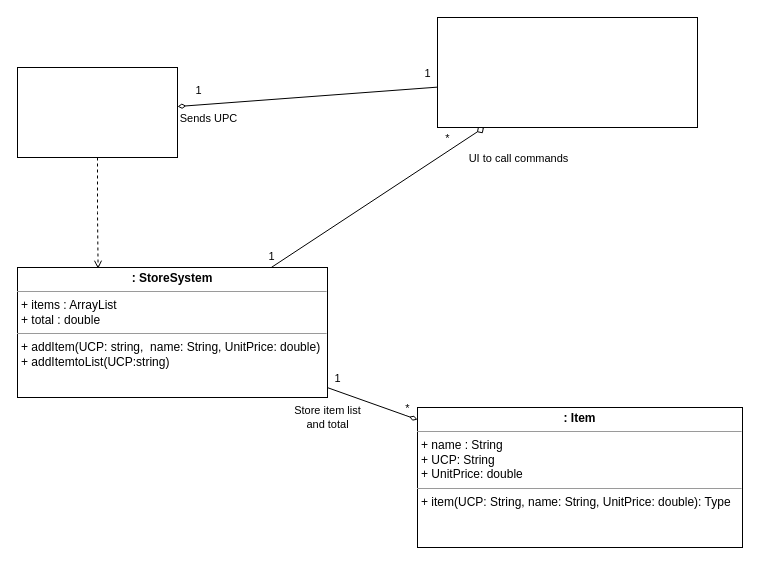
The diagram is 760 pixels wide and 565 high, and some of its shapes have lost their labels. The centre of each missing label's shape, as x and y in pixels:
: Register currUPC : String + getUPC(UPC : string): + getConfirmation() + pay(): pixel 567 72
: UPCScanner + scanitem(UPC : string): pixel 97 112
